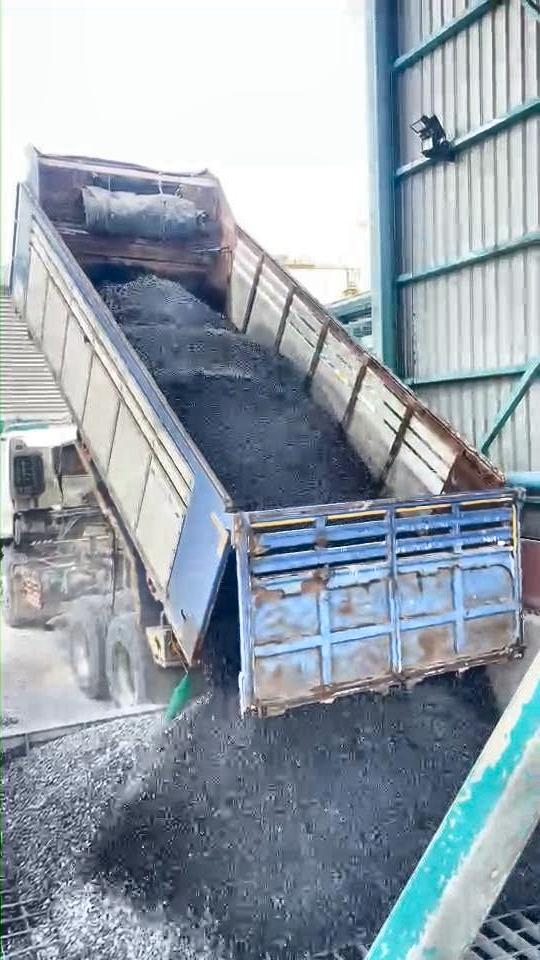gravel: (4, 678, 495, 959), (100, 276, 376, 507), (503, 838, 540, 907)
